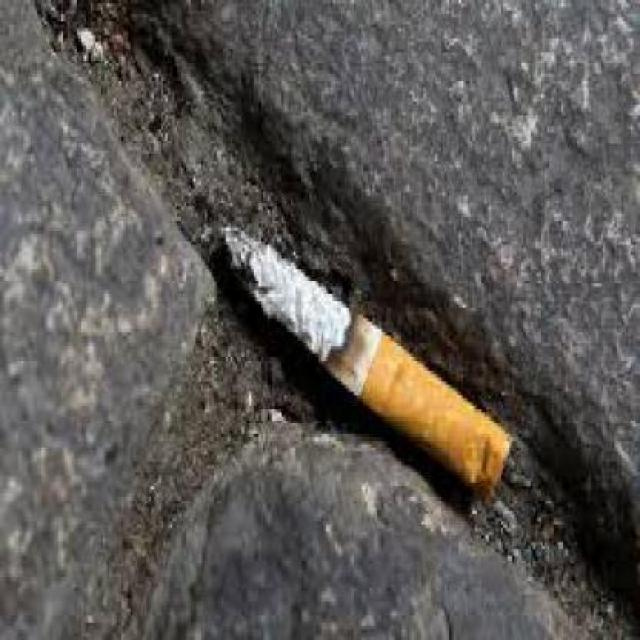cigarette: (202, 216, 536, 490)
